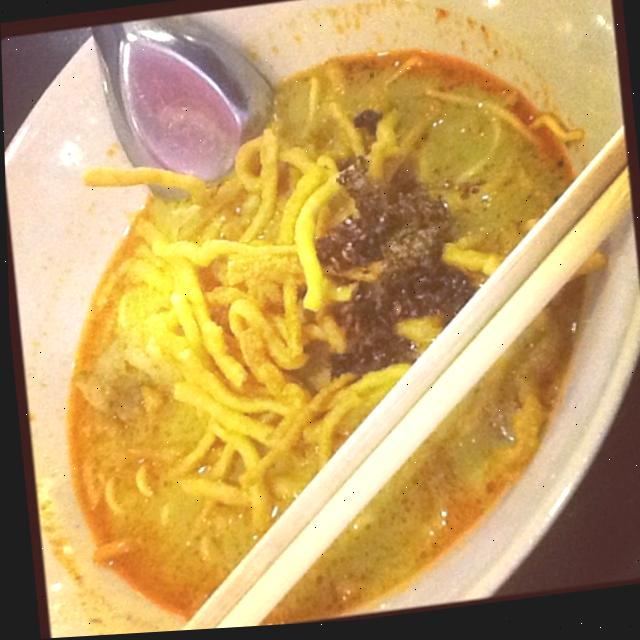面条主食: (17, 0, 622, 635)
